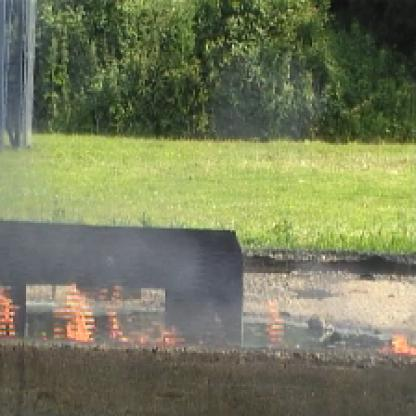Fire: (2, 264, 187, 349), (254, 297, 294, 349), (385, 328, 414, 356)
Smoke: (2, 195, 202, 282)
